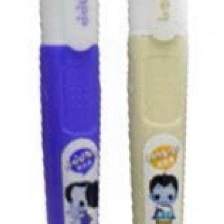correction_fluid: (123, 0, 190, 224)
